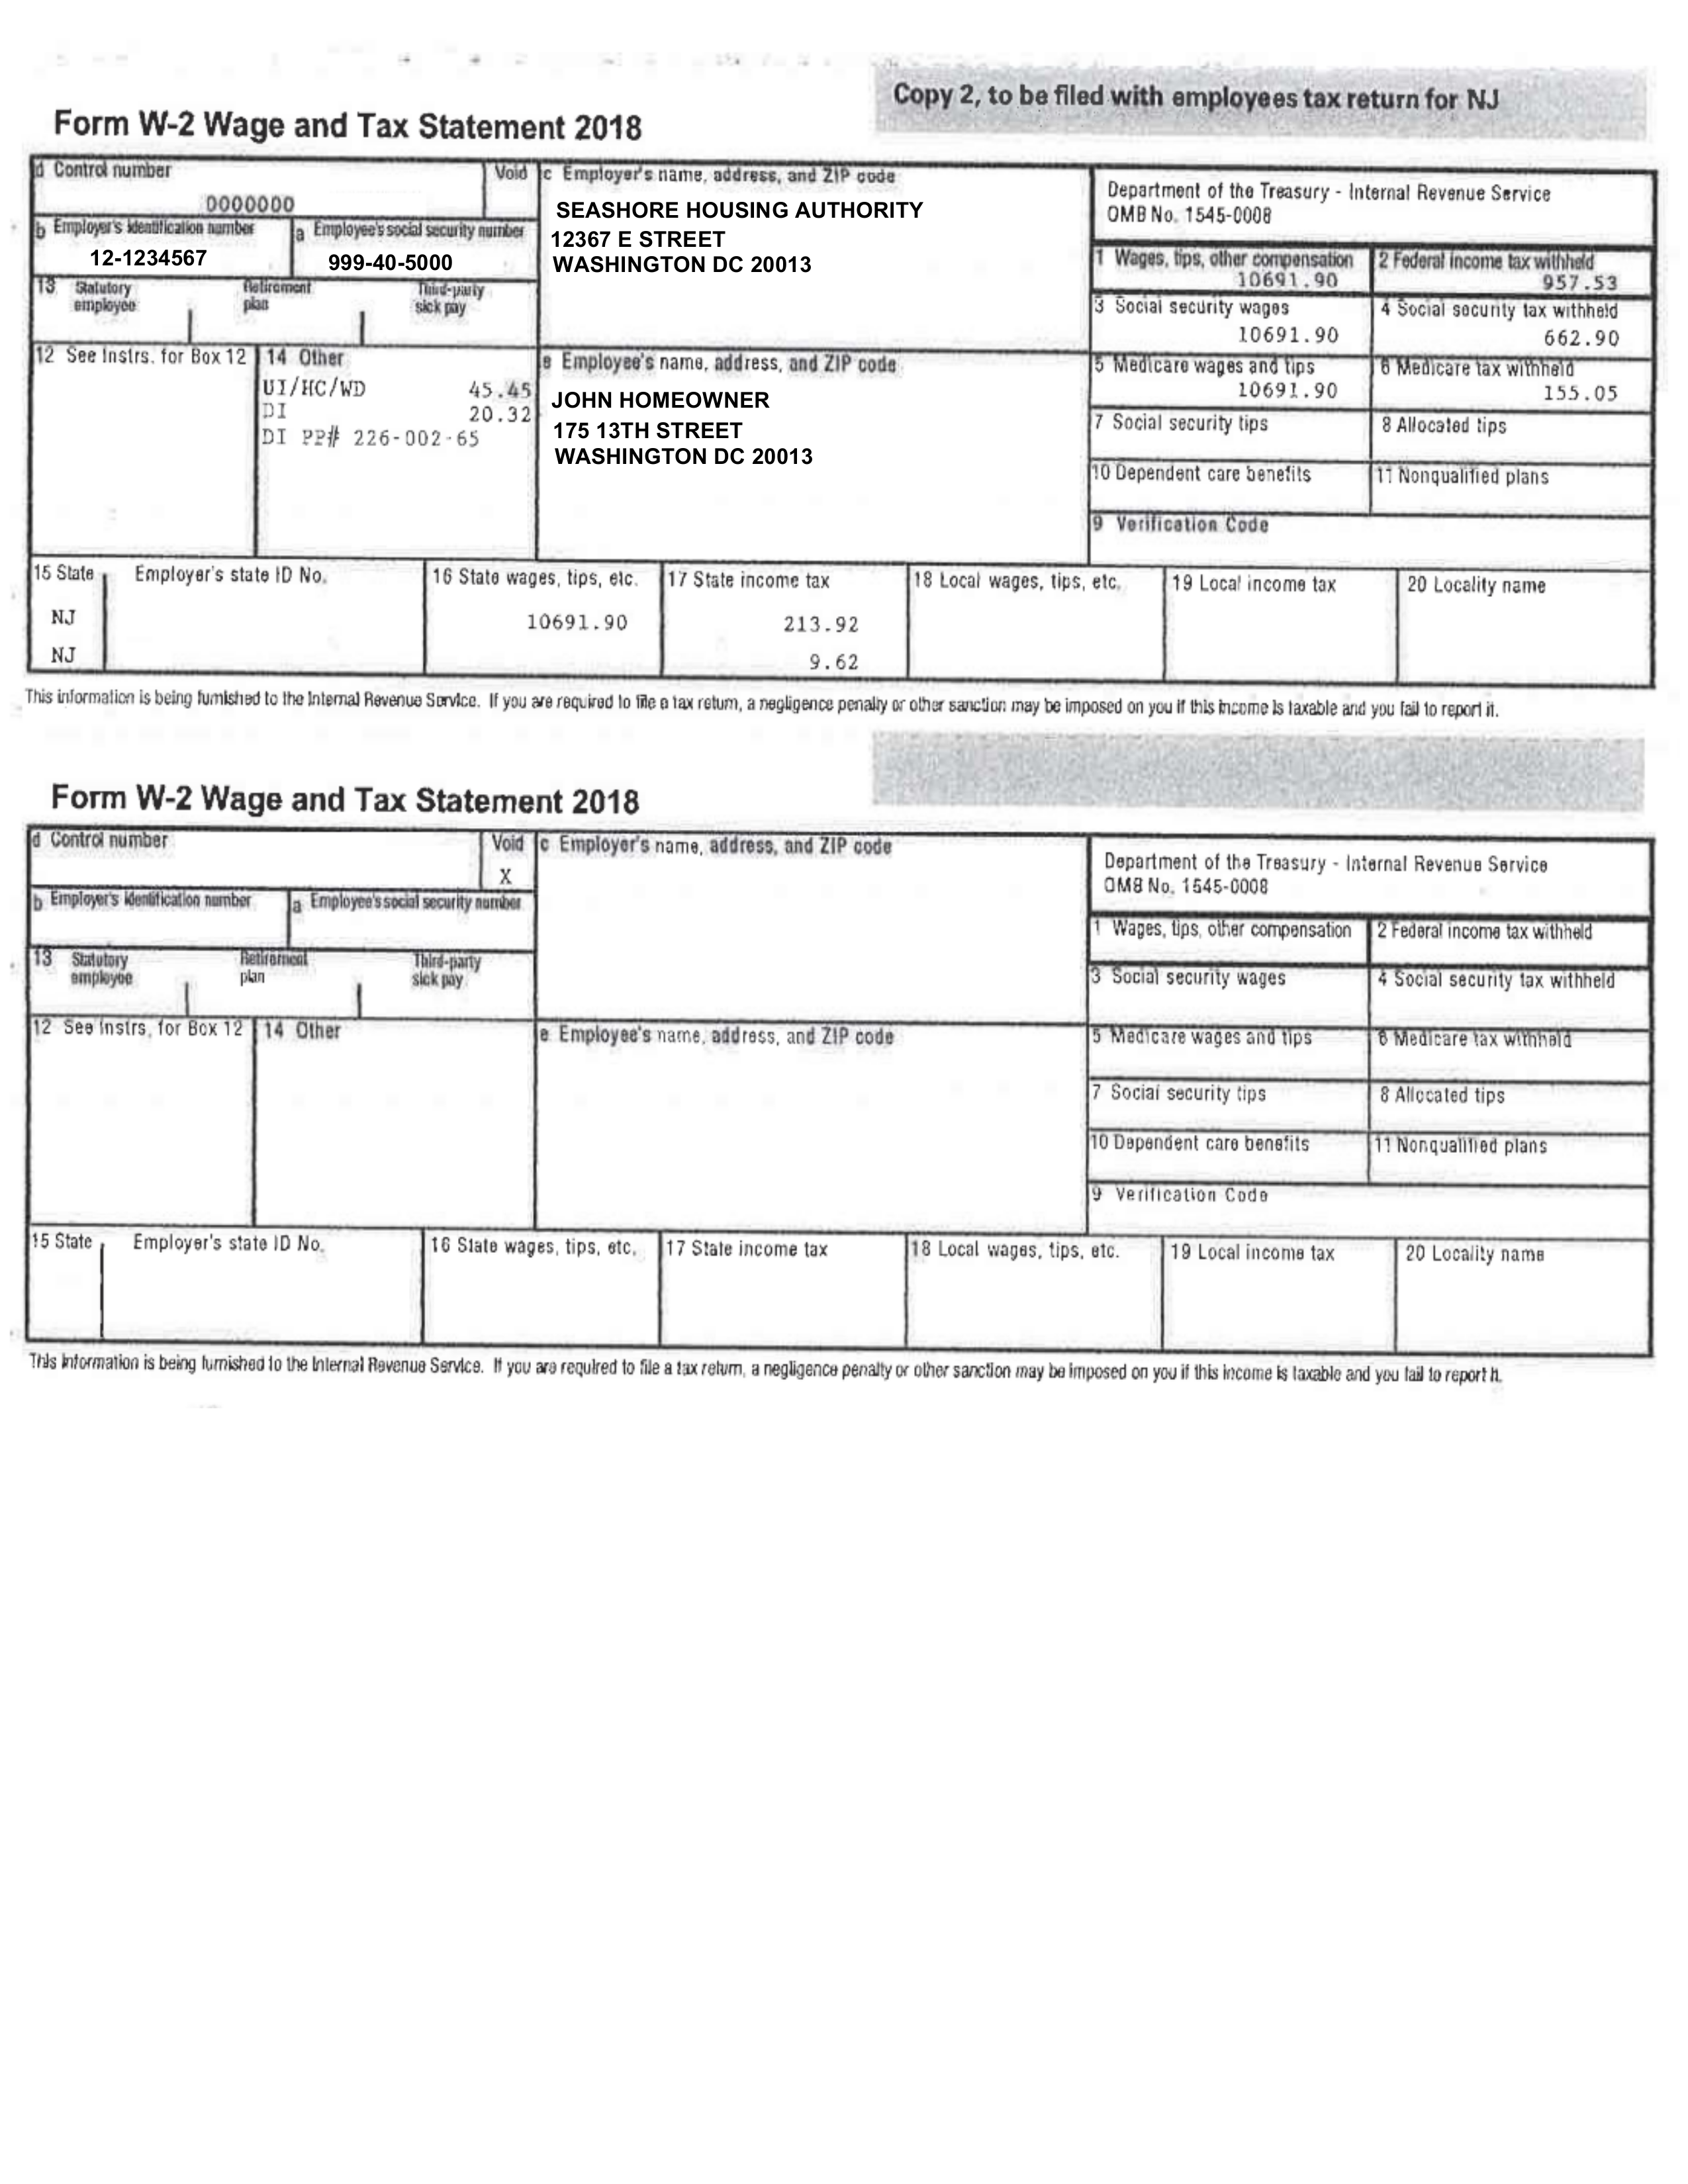table: (28, 154, 1656, 688), (27, 824, 1654, 1358)
